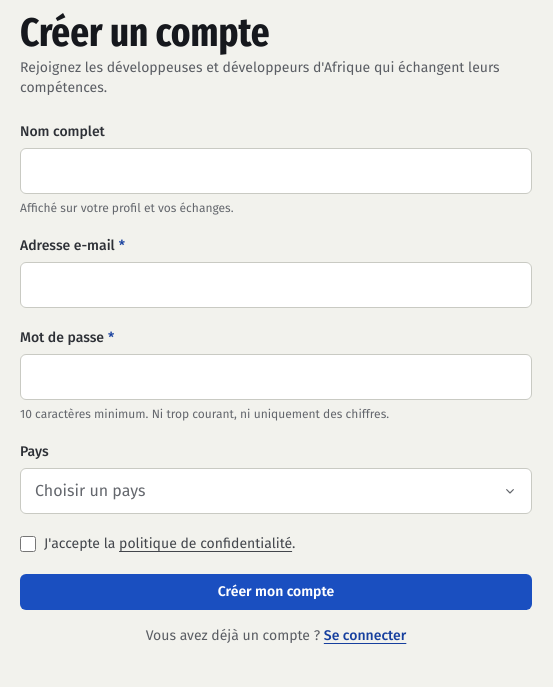
Test: page d'inscription › affiche lerreur du serveur sur une adresse déjà utilisée
The image size is (553, 687).
Type "ada@example.org" into the field labelled "Adresse e-mail*" at {"x": 276, "y": 285}, box top-left (20, 262), bottom-right (532, 308)
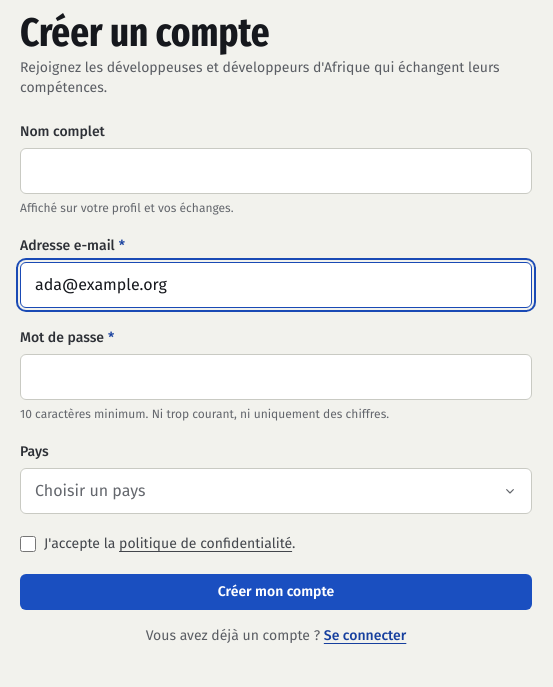
Type "mot-de-passe-solide-2026" into the password field labelled "Mot de passe*" at {"x": 276, "y": 377}, box top-left (20, 354), bottom-right (532, 400)
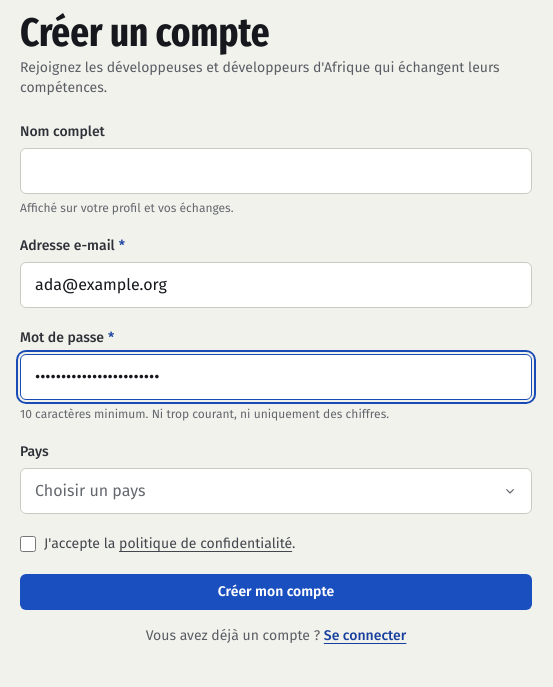
Click the checkbox at {"x": 28, "y": 544}, box top-left (20, 536), bottom-right (36, 552)
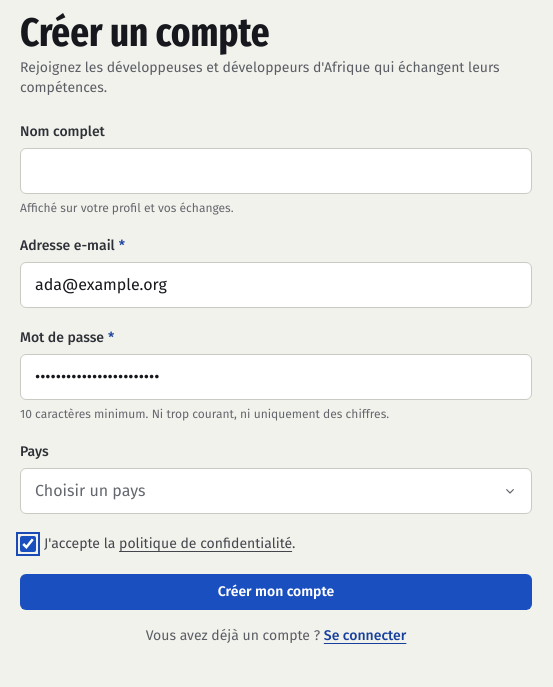
Click the button "Créer mon compte" at {"x": 276, "y": 592}, box top-left (20, 574), bottom-right (532, 610)
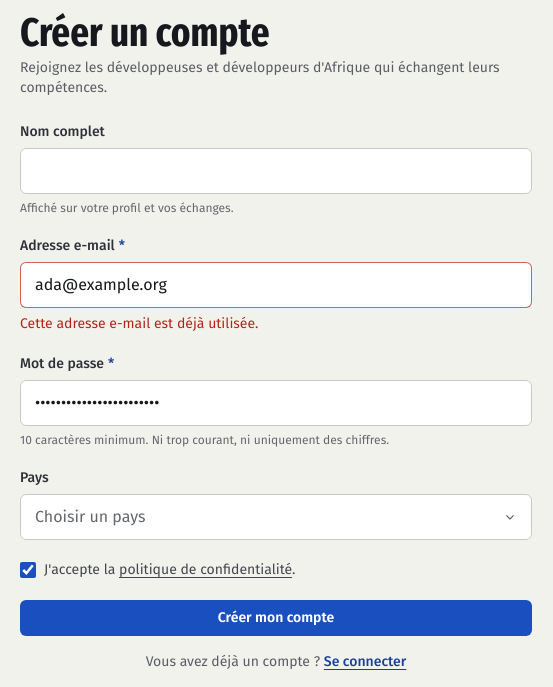
Check: the text "Cette adresse e-mail est déjà utilisée." is shown, box top-left (20, 315), bottom-right (258, 332)
